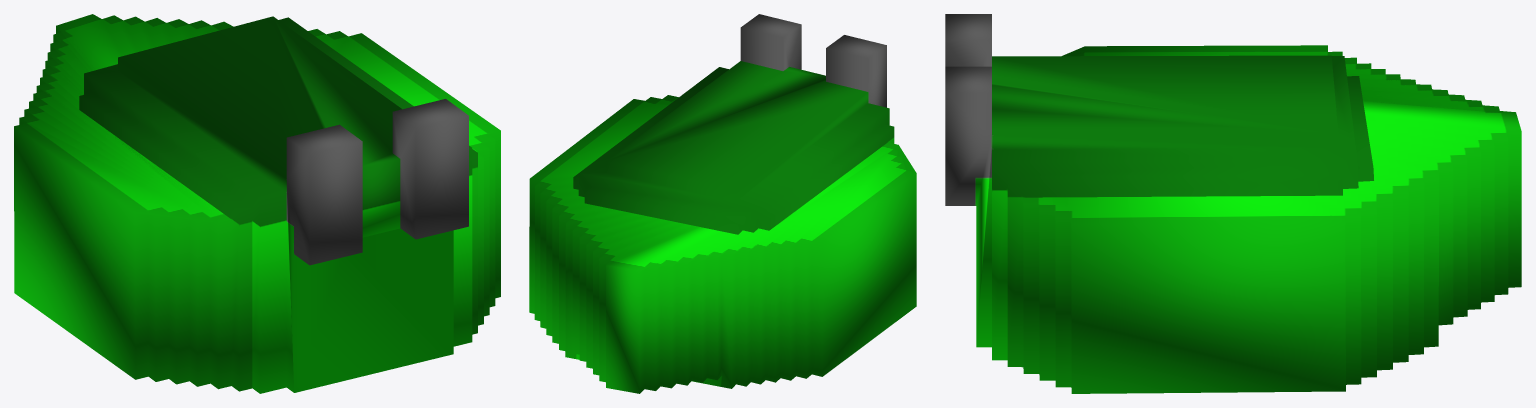
Rendered from slime.obj.
3 renders of one model, left to right at view 1: azimuth 30°, elevation 25°; view 2: azimuth 150°, elevation 25°; view 3: azimuth 270°, elevation 25°, orthographic. The views are drawn at different scales.
Parts seen in each view (by area): view 1: srime; view 2: srime; view 3: srime.
Boxes of the visible parts, x1,y1,x2,y2 form: srime: (14,14,500,393); srime: (529,14,916,393); srime: (945,14,1521,393).
Size of the model in its own units: 2.78 by 1.84 by 3.78.
